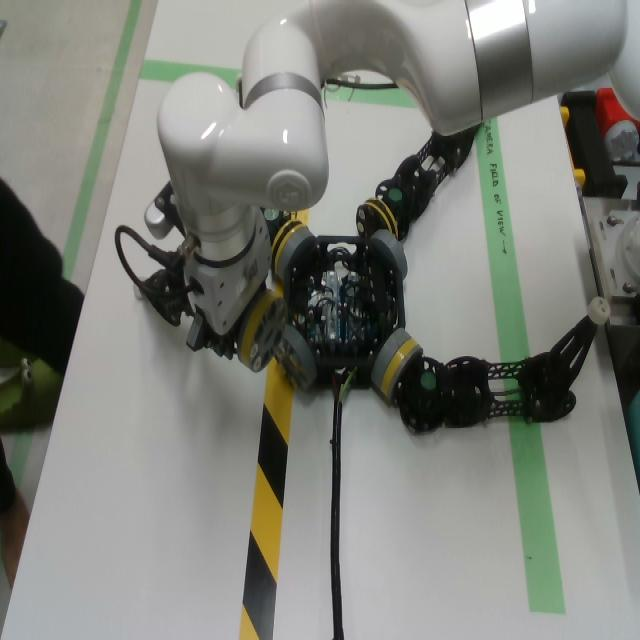body: (284, 236, 405, 391)
body_connector: (273, 325, 317, 392), (370, 328, 411, 388), (277, 227, 316, 280), (370, 229, 408, 280)
gripper: (186, 211, 271, 360)
leg: (381, 297, 612, 433), (355, 125, 479, 241), (230, 285, 286, 373), (133, 269, 192, 327), (262, 209, 307, 275), (235, 73, 243, 109)
leg_connector: (238, 289, 287, 373), (381, 339, 423, 400), (355, 197, 398, 243), (270, 220, 305, 273)
leg_marker: (420, 373, 436, 389), (389, 188, 401, 201), (265, 208, 278, 219)
